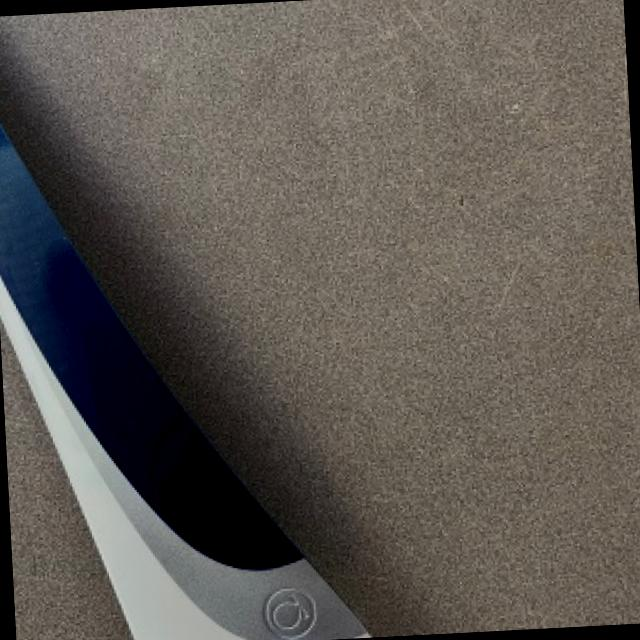healthy: (0, 0, 640, 635), (0, 126, 371, 640)
